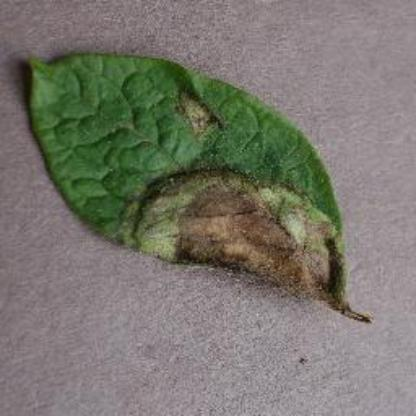Late-Blight: (21, 0, 374, 372)
